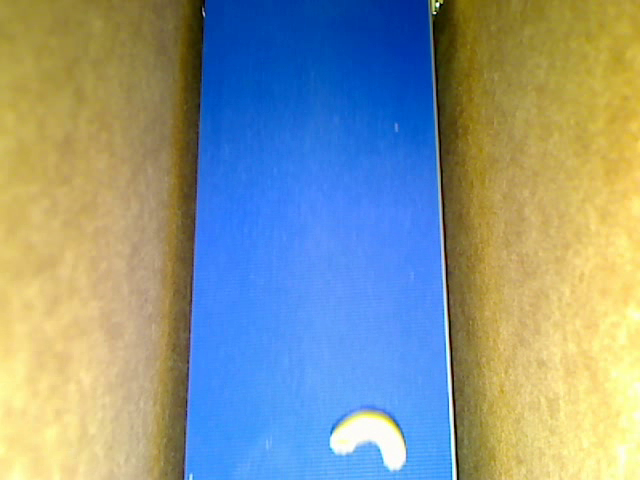elbow: (330, 407, 406, 472)
